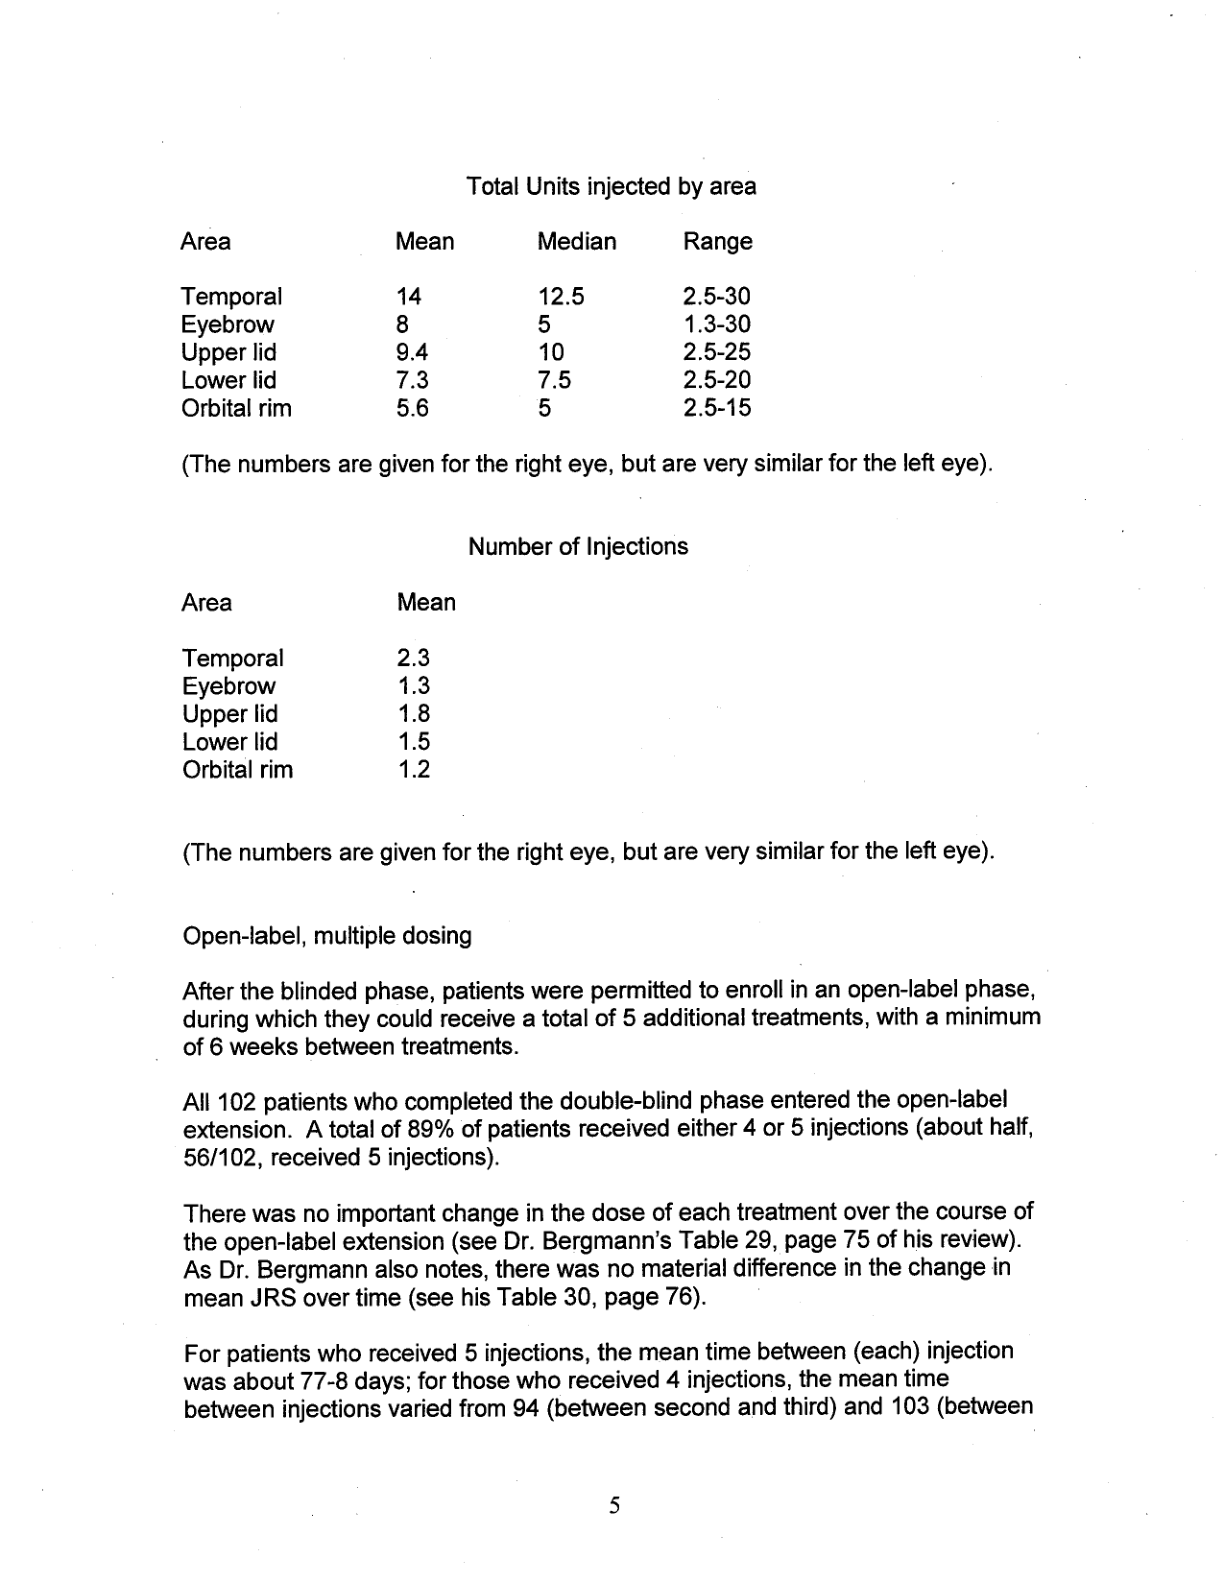nolines: (177, 223, 764, 422), (177, 586, 461, 785)
